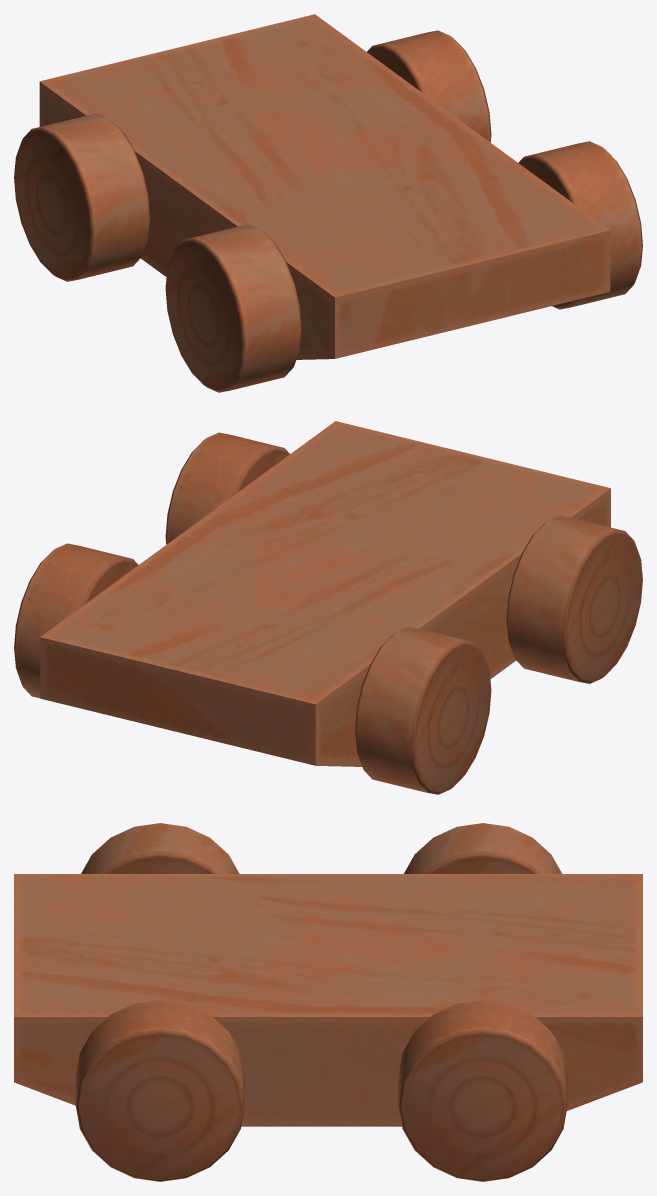
The model's file is Train_Flatbed_Anim.fbx.
3 views of the same model, one above another, from view 1: azimuth 30°, elevation 25°; view 2: azimuth 150°, elevation 25°; view 3: azimuth 270°, elevation 25° (orthographic). The views are drawn at different scales.
Parts seen in each view (by area): view 1: Flatbed_low, Wheel_low8, Wheel_low9, Wheel_low2, Wheel_low3; view 2: Flatbed_low, Wheel_low9, Wheel_low8, Wheel_low3, Wheel_low2; view 3: Flatbed_low, Wheel_low2, Wheel_low3, Wheel_low9, Wheel_low8.
Boxes of the visible parts, bbox=[...] form: Flatbed_low: bbox=[39, 14, 610, 359]; Wheel_low8: bbox=[14, 113, 150, 281]; Wheel_low9: bbox=[165, 224, 302, 392]; Wheel_low2: bbox=[518, 141, 642, 309]; Wheel_low3: bbox=[367, 30, 491, 142]; Flatbed_low: bbox=[40, 421, 610, 766]; Wheel_low9: bbox=[506, 515, 642, 683]; Wheel_low8: bbox=[354, 626, 491, 794]; Wheel_low3: bbox=[14, 543, 138, 698]; Wheel_low2: bbox=[165, 432, 289, 544]; Flatbed_low: bbox=[14, 874, 642, 1126]; Wheel_low2: bbox=[75, 1000, 244, 1181]; Wheel_low3: bbox=[398, 1000, 567, 1181]; Wheel_low9: bbox=[81, 823, 239, 873]; Wheel_low8: bbox=[404, 823, 561, 873].
Bounding box in the file's own units: 306 × 105 × 390.
